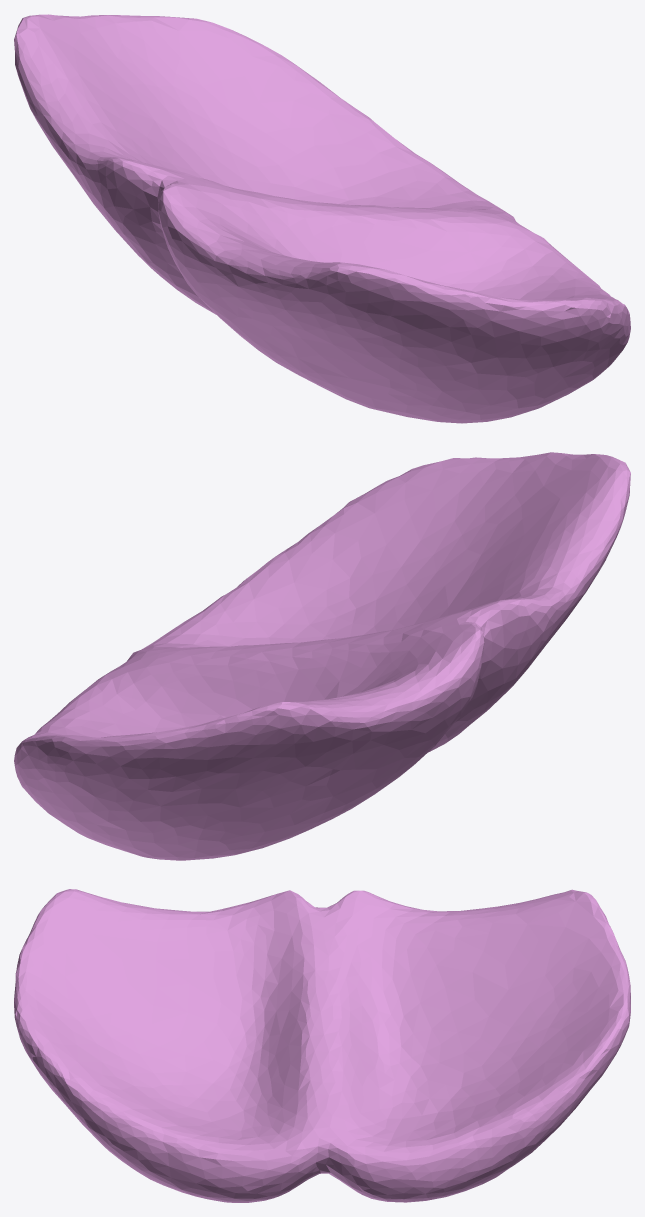
The picture shows the model from 3 angles, top to bottom: view 1: azimuth 30°, elevation 25°; view 2: azimuth 150°, elevation 25°; view 3: azimuth 270°, elevation 25°; orthographic projection. The views are drawn at different scales.
Visible parts, largest first — view 1: 302.obj; view 2: 302.obj; view 3: 302.obj.
Part boxes in pixels (box(x1,y1,x2,y2)): 302.obj: box(14, 14, 630, 423); 302.obj: box(14, 452, 630, 860); 302.obj: box(14, 889, 630, 1202).
Size of the model in its own units: 1997 by 1272 by 3340.
